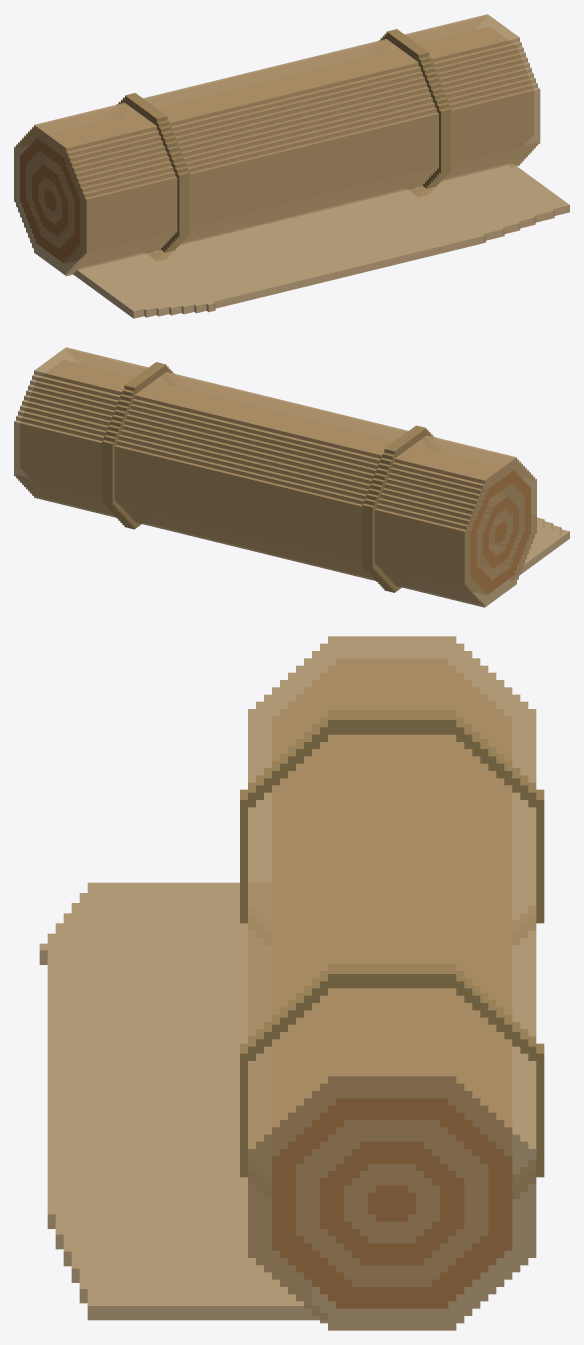
File: tanning_hide.glb
3 views of the same model, one above another, from view 1: azimuth 30°, elevation 25°; view 2: azimuth 150°, elevation 25°; view 3: azimuth 270°, elevation 25° (orthographic). The views are drawn at different scales.
Visible parts, largest first — view 1: tanning_hide:compound; view 2: tanning_hide:compound; view 3: tanning_hide:compound.
Boxes of the visible parts, x1,y1,x2,y2 form: tanning_hide:compound: (14,14,569,318); tanning_hide:compound: (14,347,569,607); tanning_hide:compound: (39,636,544,1330).
Size of the model in its own units: 0.26 by 0.078 by 0.126.
